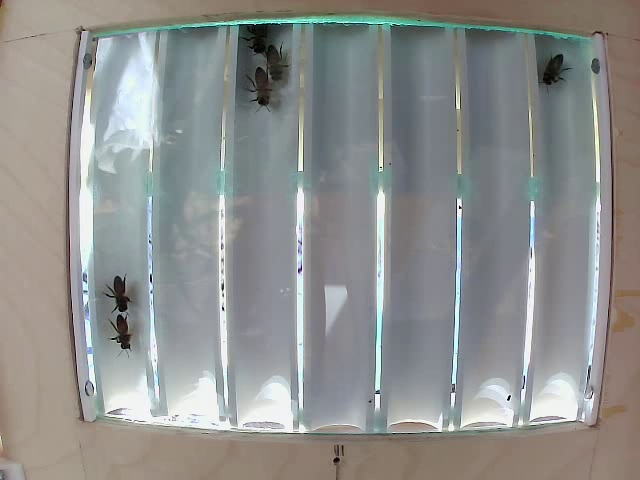bee: (257, 46, 301, 95), (243, 62, 277, 124), (533, 50, 570, 97), (102, 272, 144, 309), (107, 310, 143, 352)
